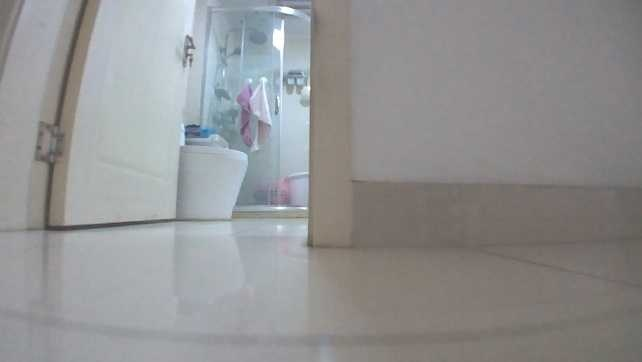door_anno: (0, 0, 198, 227)
door_sill: (231, 204, 307, 220)
toilet: (175, 118, 249, 222)
